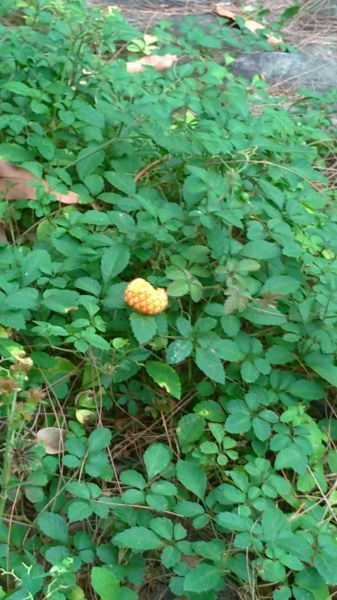eggs: (119, 274, 171, 316)
